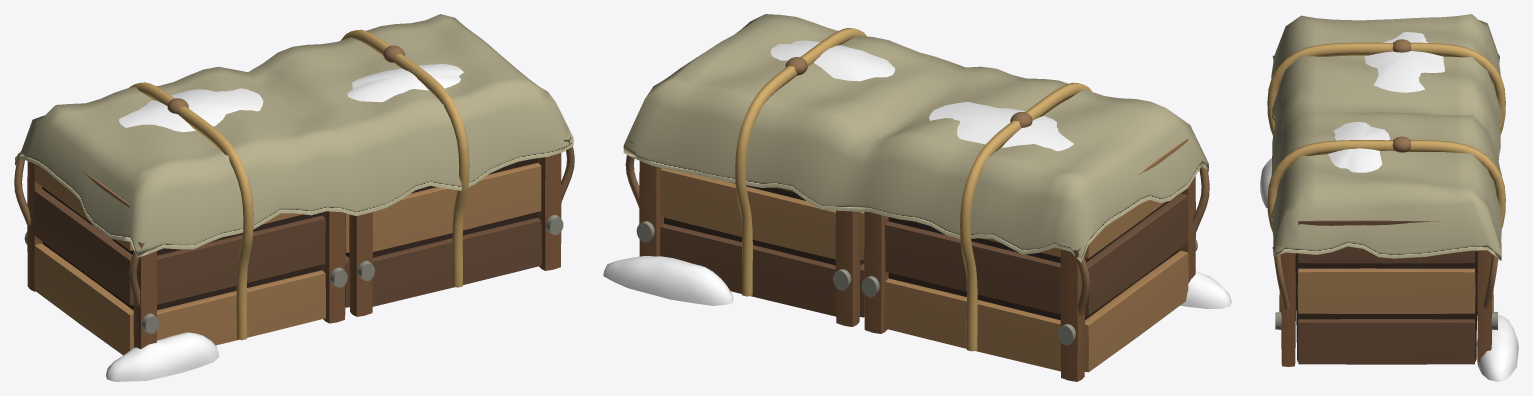
File: detail_winter_cache.glb
3 renders of one model, left to right at view 1: azimuth 30°, elevation 25°; view 2: azimuth 150°, elevation 25°; view 3: azimuth 270°, elevation 25°, orthographic. The views are drawn at different scales.
Parts seen in each view (by area): view 1: cloth, wood, plaster, metal; view 2: cloth, wood, plaster, metal; view 3: cloth, wood, plaster, metal.
Boxes of the visible parts, bbox=[...] form: cloth: bbox=[14, 14, 574, 340]; wood: bbox=[27, 153, 561, 355]; plaster: bbox=[106, 63, 463, 381]; metal: bbox=[24, 215, 563, 333]; cloth: bbox=[623, 14, 1209, 351]; wood: bbox=[639, 138, 1195, 381]; plaster: bbox=[603, 40, 1231, 308]; metal: bbox=[636, 221, 1197, 345]; cloth: bbox=[1267, 14, 1505, 312]; wood: bbox=[1280, 220, 1492, 366]; plaster: bbox=[1260, 32, 1518, 381]; metal: bbox=[1275, 311, 1497, 330].
Bounding box in the file's own units: 1.4 × 0.55 × 0.7.
